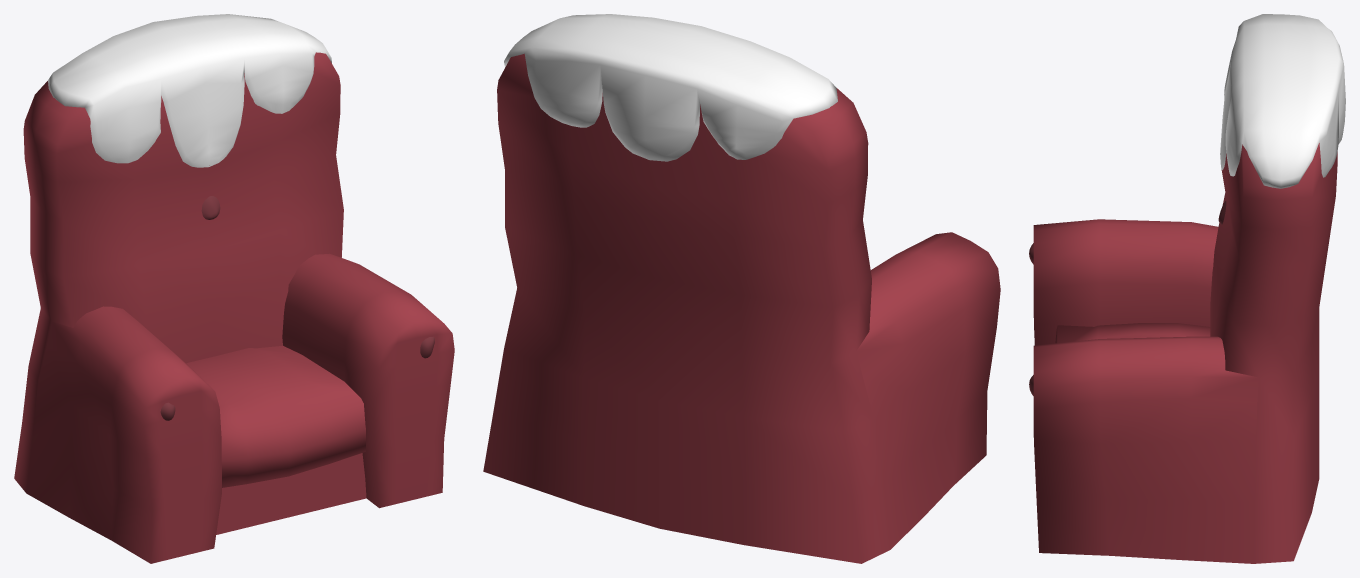
File: props_ArmChair.fbx
3 views of the same model, side by side, from view 1: azimuth 30°, elevation 25°; view 2: azimuth 150°, elevation 25°; view 3: azimuth 270°, elevation 25° (orthographic). The views are drawn at different scales.
Visible parts, largest first — view 1: fauteuil; view 2: fauteuil; view 3: fauteuil.
Boxes of the visible parts, x1,y1,x2,y2 form: fauteuil: [14, 14, 454, 563]; fauteuil: [483, 14, 1000, 563]; fauteuil: [1029, 14, 1345, 563].
Bounding box in the file's own units: 113 × 88.94 × 132.
